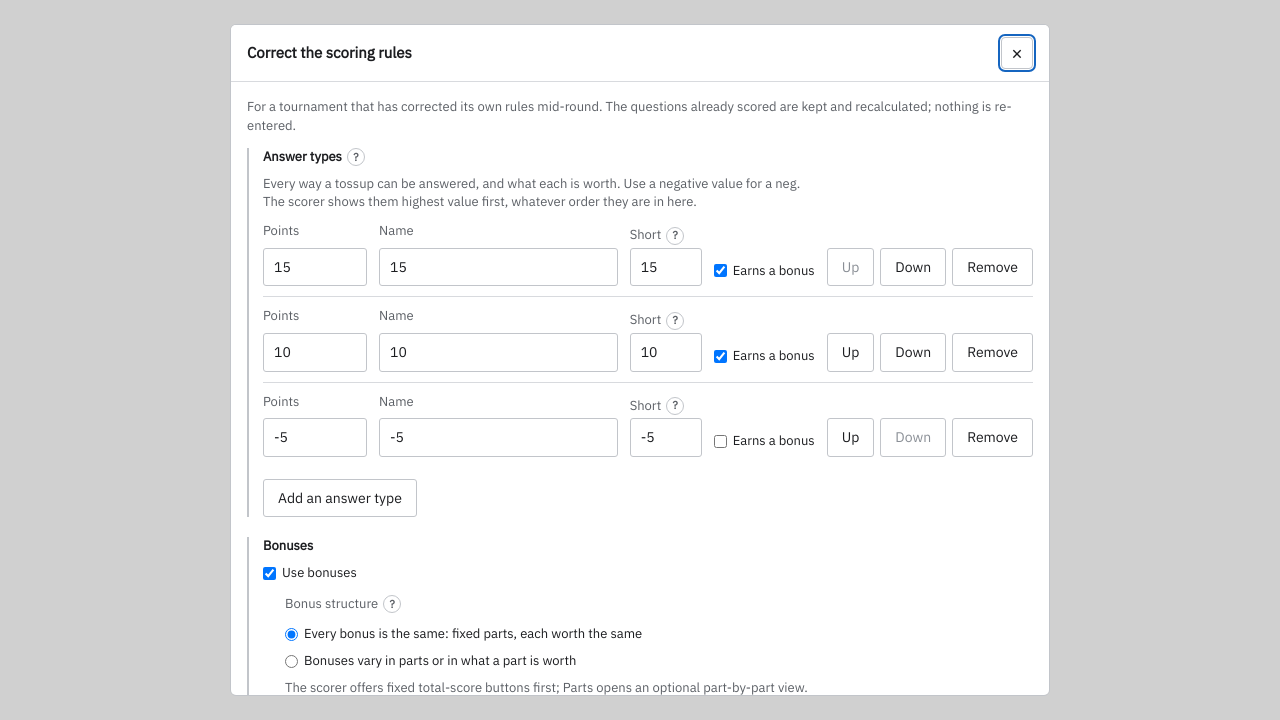
Test: the form step › refuses a correction the recorded history contradicts, and says why
Removing the power that question one was scored with.
Click the 1st button "Remove": (993, 267) [952,248,1033,286]
(page scrolled)
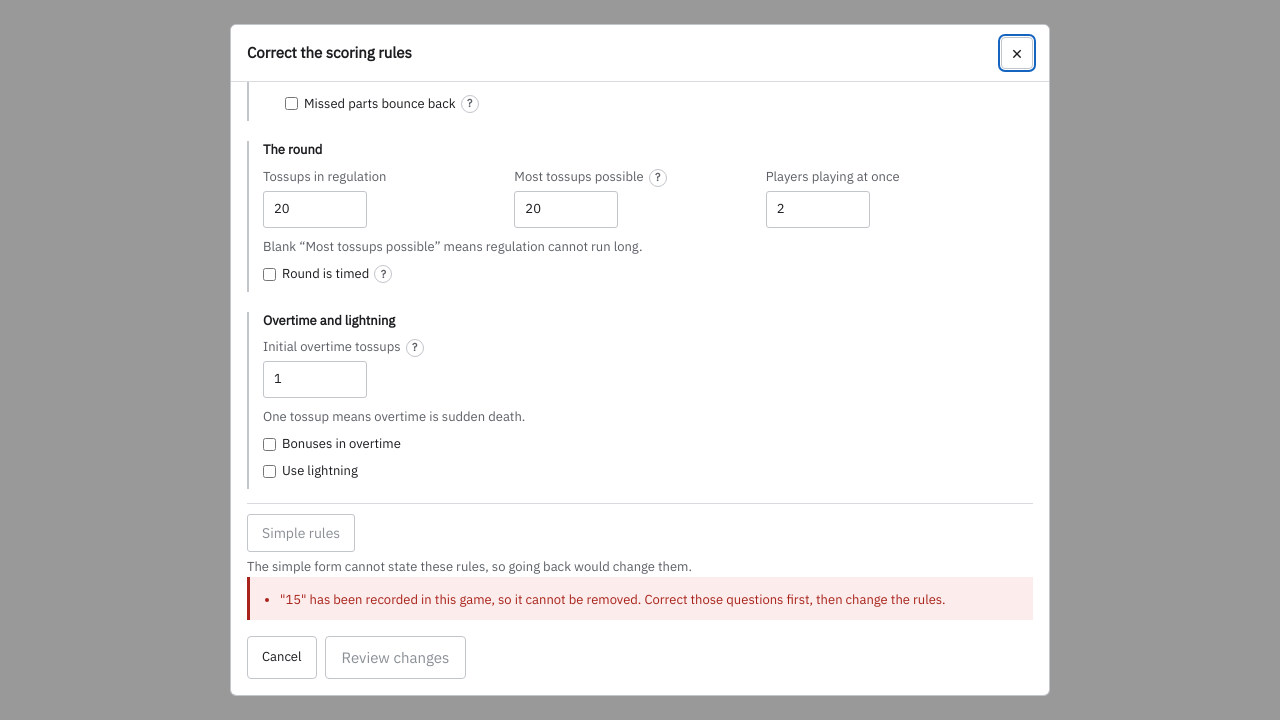
Expected: the message shows "cannot be removed", [280,591,946,608]
Expected: the button "Review changes" is disabled, [324,636,466,680]
